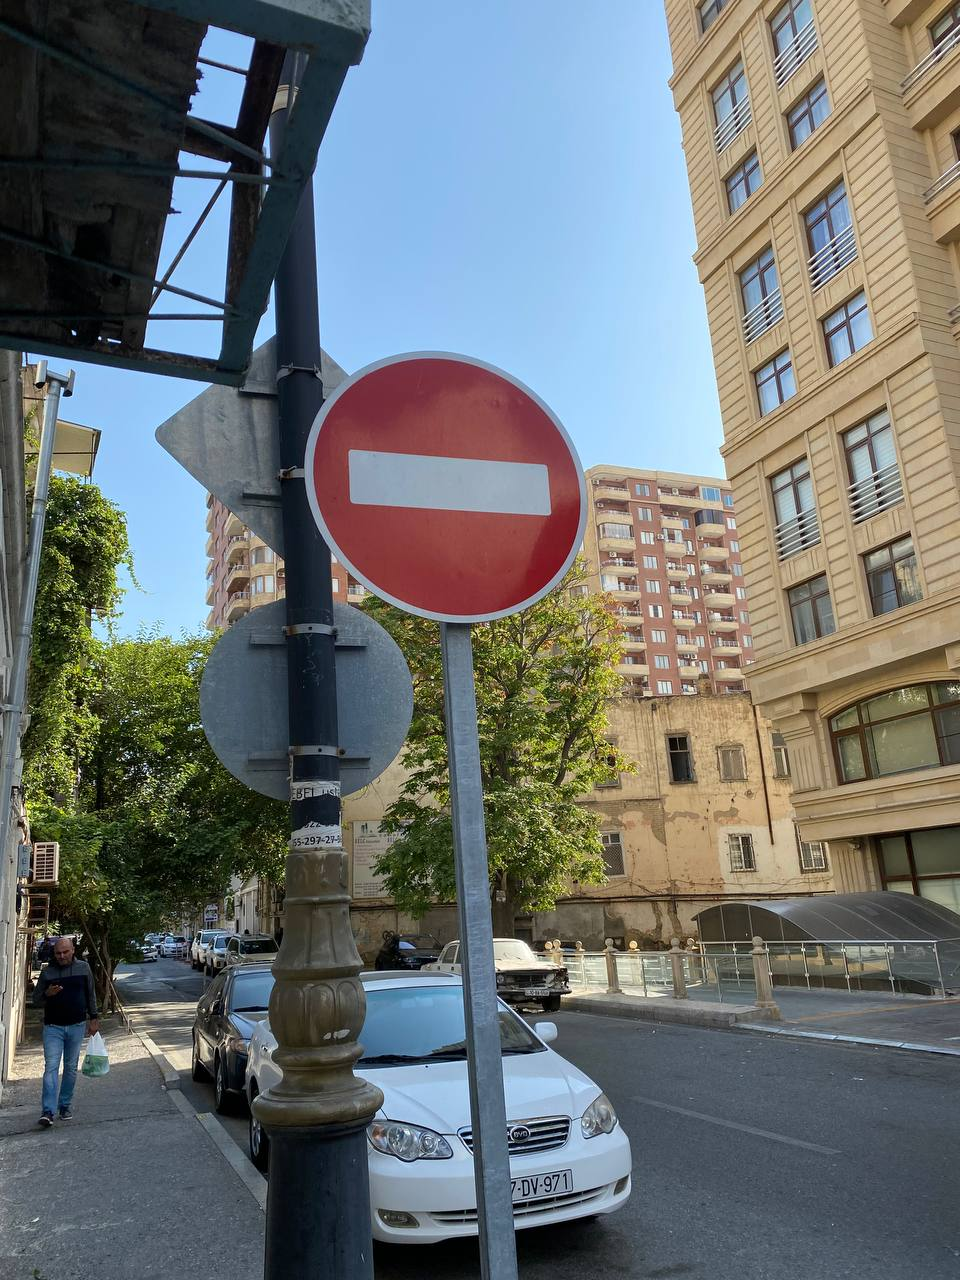No Entry: (304, 350, 589, 624)
